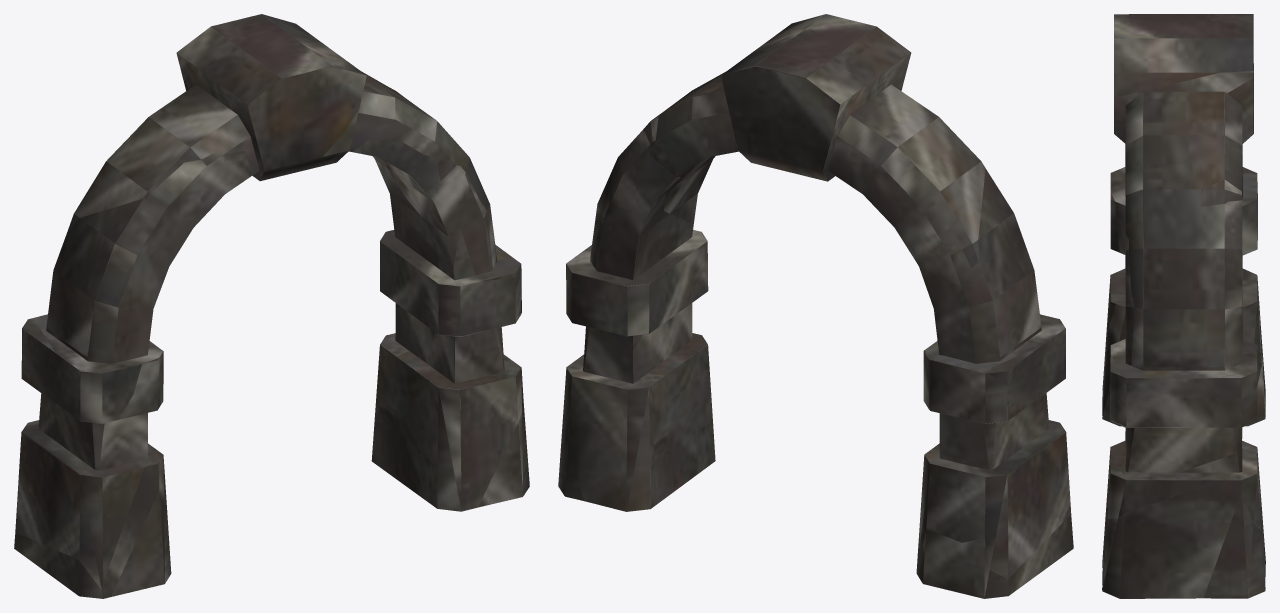
The model's file is gate.glb.
3 views of the same model, side by side, from view 1: azimuth 30°, elevation 25°; view 2: azimuth 150°, elevation 25°; view 3: azimuth 270°, elevation 25° (orthographic).
Visible parts, largest first — view 1: gate; view 2: gate; view 3: gate.
Part boxes in pixels (x1=…): gate: x1=14, y1=14, x2=529, y2=598; gate: x1=558, y1=14, x2=1073, y2=598; gate: x1=1102, y1=14, x2=1265, y2=598.
Size of the model in its own units: 2.2 by 2.2 by 0.7042.
Materials: 1 (1 with a texture image).
